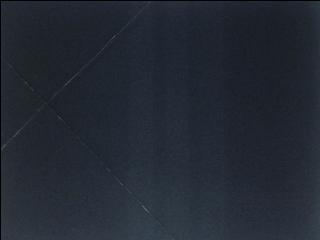crack: (0, 51, 174, 240), (0, 1, 158, 144)
